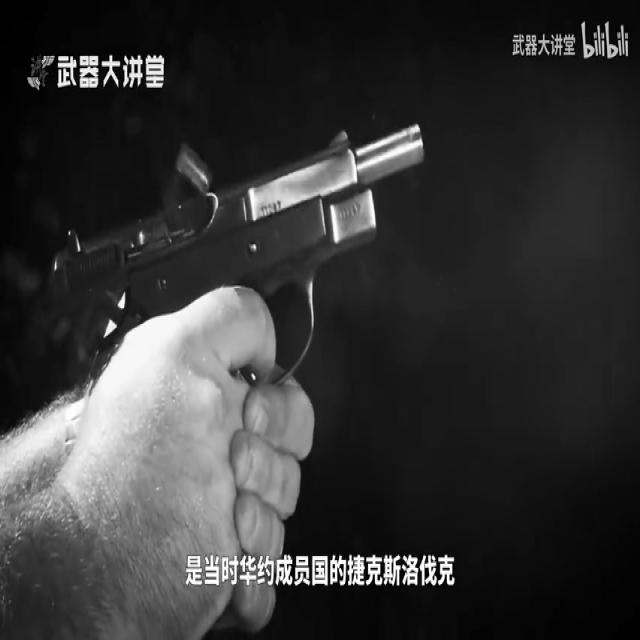Hand-Gun: (0, 0, 468, 607)
